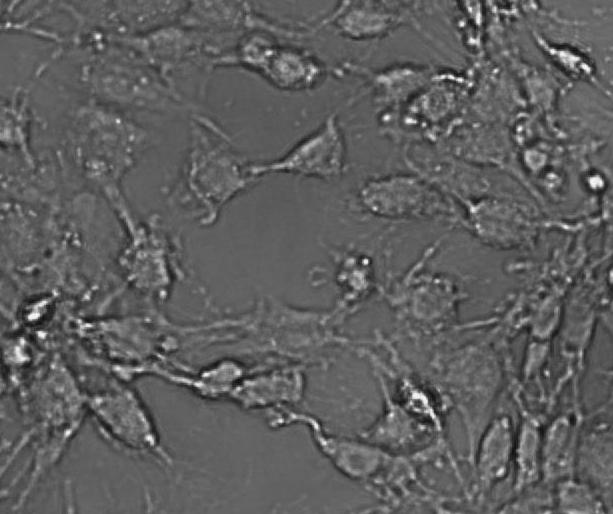Dead: (390, 367, 447, 435), (330, 248, 380, 303), (538, 35, 597, 79), (262, 49, 320, 88), (229, 29, 280, 67), (17, 291, 62, 329), (1, 332, 41, 373), (581, 163, 611, 196), (535, 167, 569, 196), (522, 145, 551, 175)
